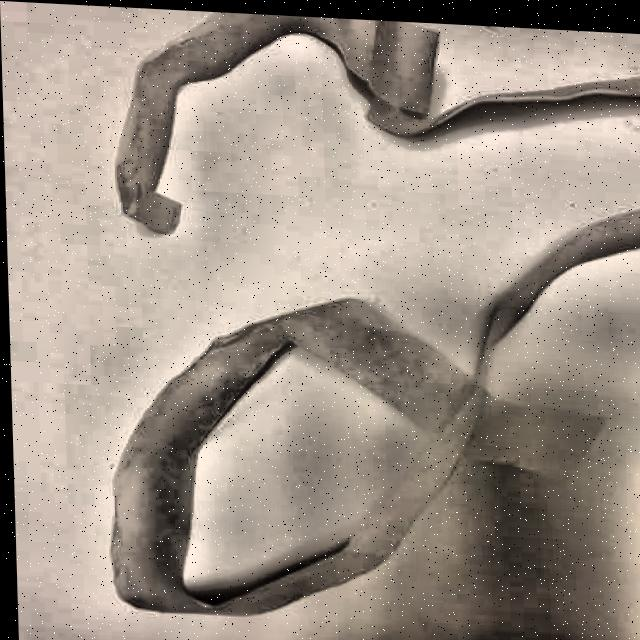paper: (91, 7, 640, 638)
